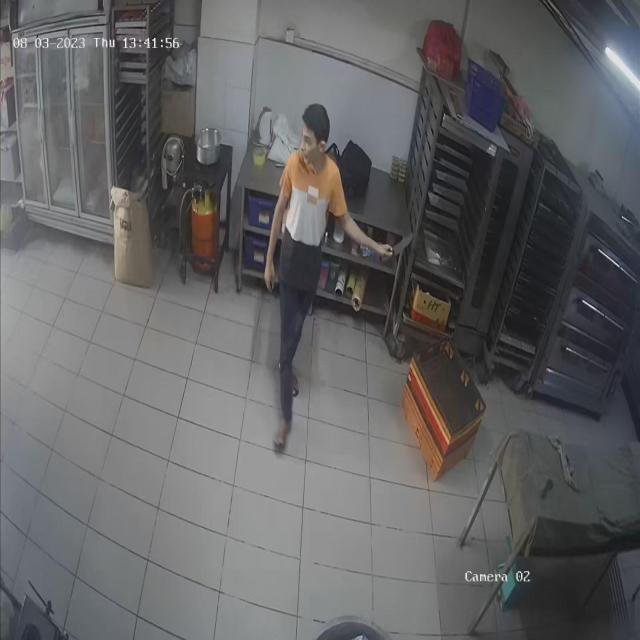Knife: (382, 224, 422, 272)
